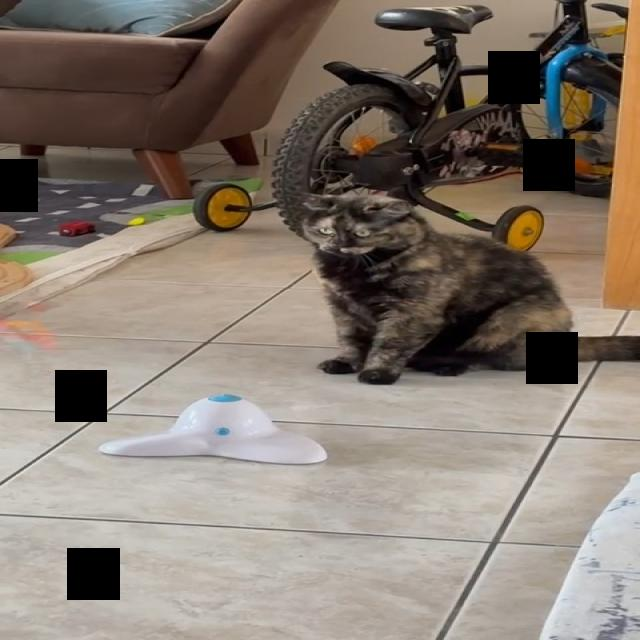authorized: (293, 189, 639, 385)
